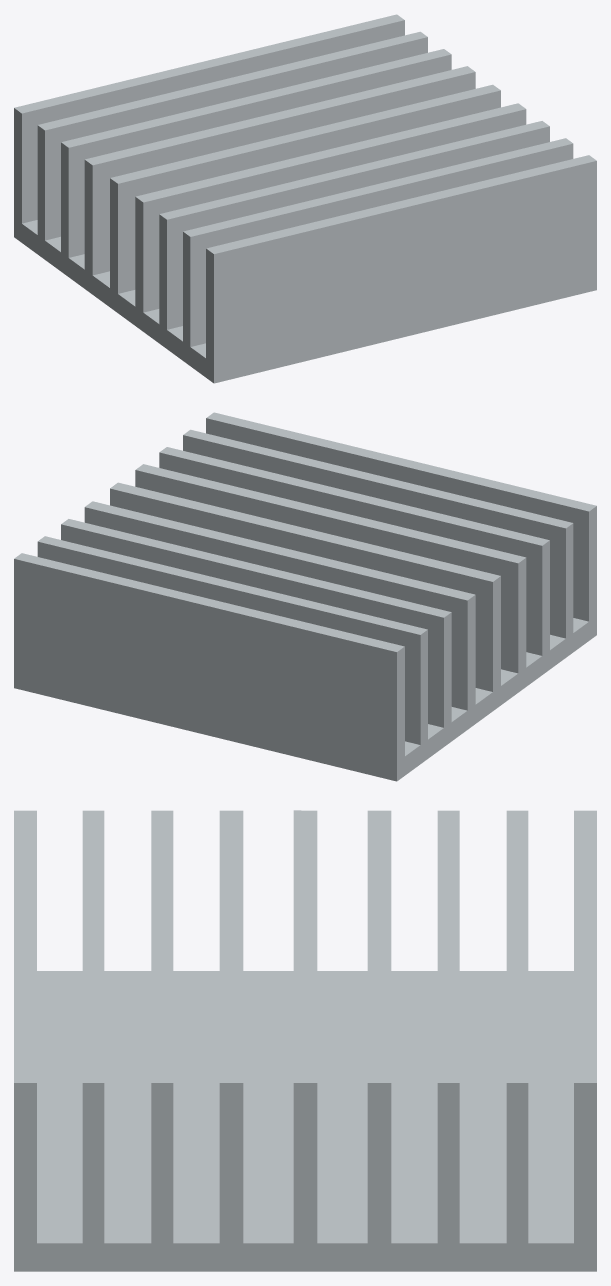
Rendered from DU_電路板_藍_散熱片.fbx.
3 views of the same model, one above another, from view 1: azimuth 30°, elevation 25°; view 2: azimuth 150°, elevation 25°; view 3: azimuth 270°, elevation 25° (orthographic). The views are drawn at different scales.
Parts seen in each view (by area): view 1: pCube101; view 2: pCube101; view 3: pCube101.
Part boxes in pixels (x1=…): pCube101: x1=14, y1=14, x2=596, y2=383; pCube101: x1=14, y1=412, x2=596, y2=781; pCube101: x1=14, y1=810, x2=596, y2=1271.
Bounding box in the file's own units: 4.35 × 1.41 × 3.94.
1 material, 1 textured.
